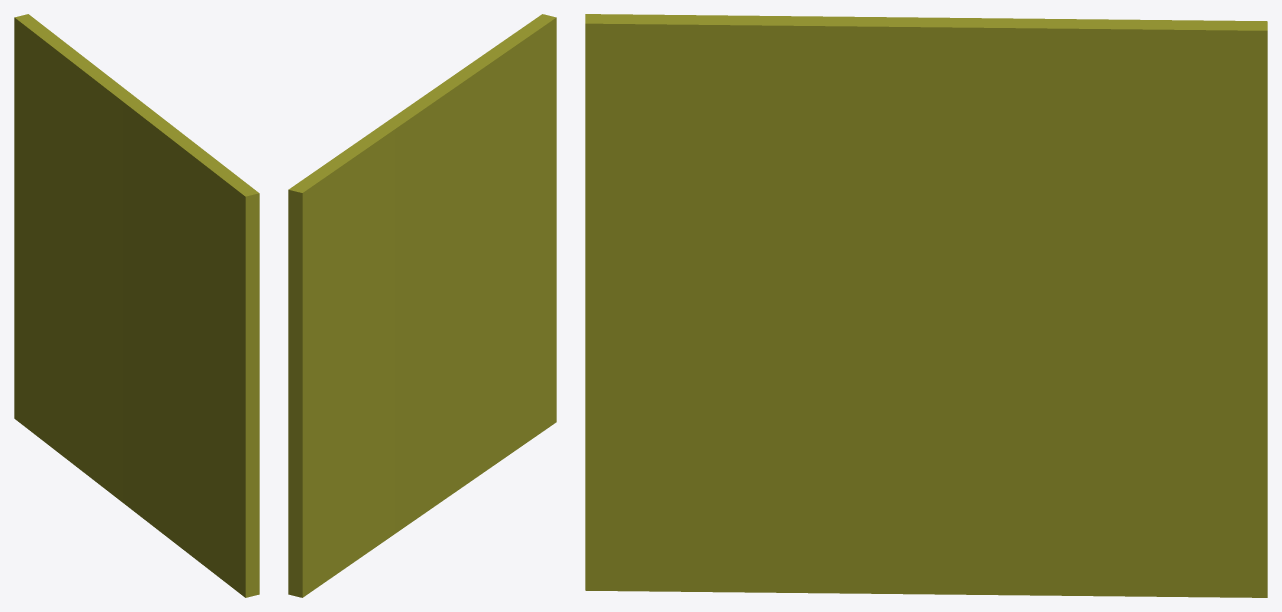
File: magnesium.fbx
The picture shows the model from 3 angles, left to right: view 1: azimuth 30°, elevation 25°; view 2: azimuth 150°, elevation 25°; view 3: azimuth 270°, elevation 25°; orthographic projection. The views are drawn at different scales.
Visible parts, largest first — view 1: polySurface86; view 2: polySurface86; view 3: polySurface86.
Boxes of the visible parts, x1,y1,x2,y2 form: polySurface86: [14, 14, 259, 597]; polySurface86: [288, 14, 556, 597]; polySurface86: [585, 14, 1267, 597].
Bounding box in the file's own units: 0.0908 × 1.43 × 1.56.
